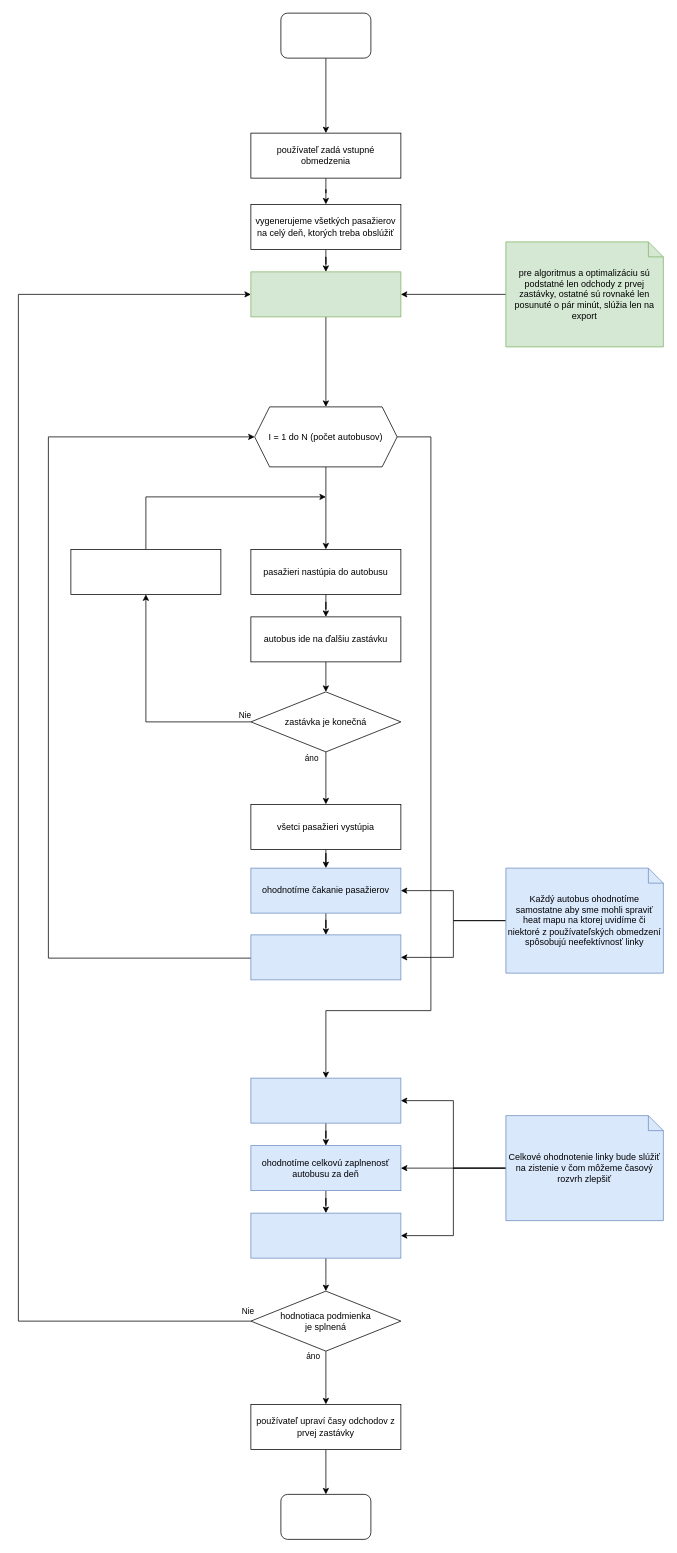
Some shapes in this 677 by 1553 pixel diagram are drawn without their labels. Here are the shapes that lost their labels. From the top down, the box of each, then its label:
(280, 12, 371, 58): start
(250, 271, 401, 317): vygenerujeme nový časový rozvrh pre všetky zastávky
(70, 549, 221, 594): niektorí pasažieri vystúpia
(250, 934, 401, 980): ohodnotíme zaplnenosť autobusu
(250, 1077, 401, 1123): ohodnotíme celkové čakanie všetkých pasažierov za deň
(250, 1212, 401, 1258): ohodnotíme počet použitých autobusov
(280, 1494, 371, 1539): koniec
